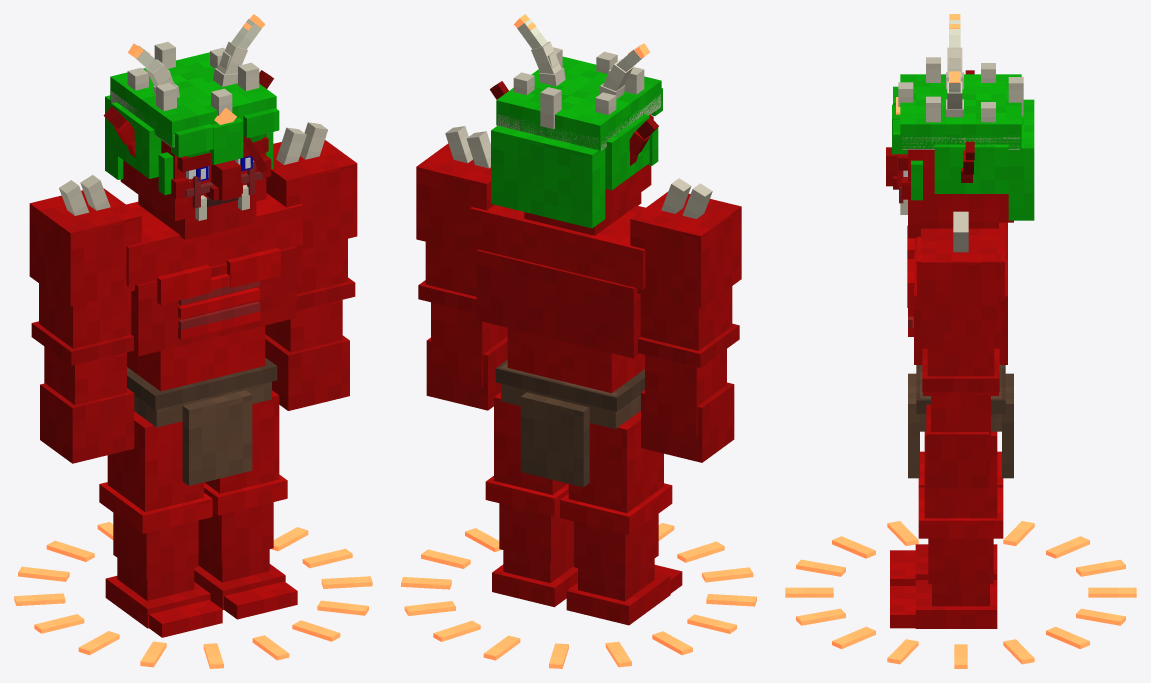
File: hobgoblin_s1_evo3.glb
3 views of the same model, side by side, from view 1: azimuth 30°, elevation 25°; view 2: azimuth 150°, elevation 25°; view 3: azimuth 270°, elevation 25° (orthographic). The views are drawn at different scales.
Parts seen in each view (by area): view 1: Torso, Head, ArmR, ArmL, LegR, LegL, Root; view 2: Torso, Head, ArmR, ArmL, LegR, LegL, Root; view 3: Head, ArmL, LegL, Root, Torso, LegR.
Part boxes in pixels (left/top/right/bottom): Torso: left=126, top=193, right=302, bottom=485; Head: left=103, top=14, right=279, bottom=239; ArmR: left=29, top=175, right=141, bottom=463; ArmL: left=265, top=122, right=357, bottom=410; LegR: left=99, top=411, right=222, bottom=637; LegL: left=194, top=390, right=297, bottom=619; Root: left=14, top=522, right=372, bottom=668; Torso: left=470, top=205, right=645, bottom=487; Head: left=490, top=14, right=662, bottom=235; ArmR: left=630, top=178, right=741, bottom=462; ArmL: left=416, top=126, right=507, bottom=410; LegR: left=560, top=411, right=682, bottom=625; LegL: left=485, top=392, right=577, bottom=607; Root: left=401, top=523, right=756, bottom=668; Head: left=886, top=14, right=1034, bottom=238; ArmL: left=921, top=211, right=1000, bottom=488; LegL: left=890, top=431, right=1003, bottom=628; Root: left=785, top=521, right=1136, bottom=668; Torso: left=907, top=222, right=1013, bottom=478; LegR: left=890, top=451, right=1003, bottom=585.
Size of the model in its own units: 1.16 by 2.02 by 1.16.
Materials: 31 (31 with a texture image).
